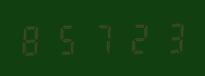eight: (18, 21, 51, 56)
five: (52, 20, 85, 56)
seven: (86, 20, 119, 55)
three: (154, 19, 187, 54)
two: (120, 19, 153, 55)
